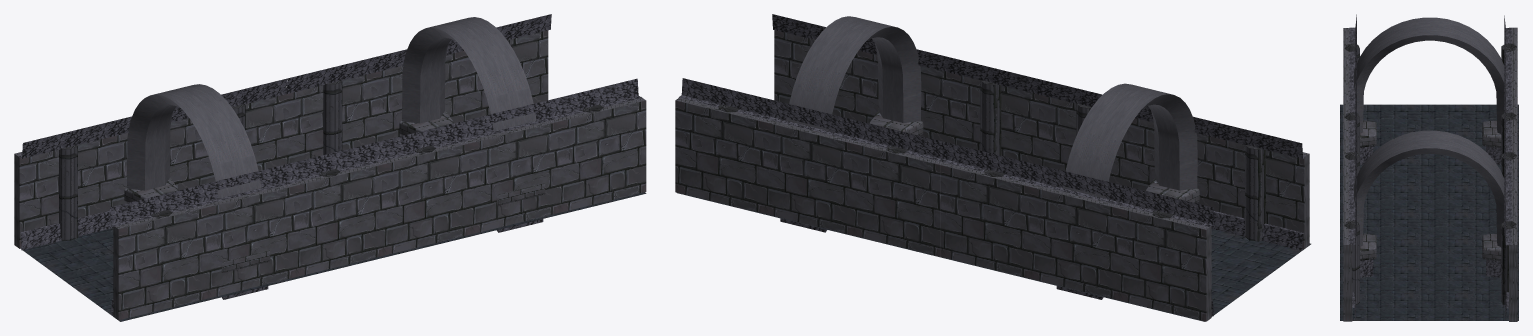
Rendered from room_003.FBX.
The picture shows the model from 3 angles, left to right: view 1: azimuth 30°, elevation 25°; view 2: azimuth 150°, elevation 25°; view 3: azimuth 270°, elevation 25°; orthographic projection. The views are drawn at different scales.
Visible parts, largest first — view 1: Box51, Box55, Box01, Box48, Arc02, Arc01, Box56, Box52, Plane01, Box20, Box49, Cylinder01 (+7 smaller); view 2: Box01, Box48, Box51, Box55, Arc01, Arc02, Box20, Box49, Plane01, Box52, Box56, Cylinder42 (+4 smaller); view 3: Plane02, Plane01, Arc01, Arc02, Box55, Box48, Box49, Box20, Box52, Box56, Box01, Box51 (+15 smaller).
Part boxes in pixels (x1,y1,x2,y2): Box51: (113, 162, 382, 320); Box55: (379, 97, 646, 255); Box01: (14, 95, 283, 248); Box48: (284, 30, 548, 164); Arc02: (402, 17, 536, 131); Arc01: (127, 84, 261, 198); Box56: (373, 78, 641, 161); Box52: (110, 143, 378, 226); Plane01: (20, 228, 382, 321); Box20: (19, 78, 287, 158); Box49: (286, 14, 551, 93); Cylinder01: (59, 144, 77, 240); Box01: (941, 162, 1211, 321); Box48: (675, 98, 944, 256); Box51: (1039, 94, 1309, 248); Box55: (774, 30, 1038, 164); Arc01: (1063, 83, 1197, 198); Arc02: (786, 16, 921, 131); Box20: (944, 143, 1213, 227); Box49: (678, 78, 947, 162); Plane01: (941, 229, 1310, 321); Box52: (1036, 78, 1306, 158); Box56: (772, 14, 1037, 94); Cylinder42: (1245, 144, 1265, 241); Plane02: (1340, 213, 1518, 320); Plane01: (1340, 104, 1518, 212); Arc01: (1354, 17, 1505, 133); Arc02: (1354, 130, 1505, 246); Box55: (1343, 136, 1352, 321); Box48: (1509, 136, 1517, 321); Box49: (1504, 124, 1511, 245); Box20: (1504, 15, 1511, 136); Box52: (1349, 14, 1356, 136); Box56: (1349, 123, 1356, 244); Box01: (1509, 27, 1517, 136); Box51: (1343, 28, 1349, 136).
Size of the model in its own units: 2208 by 641 by 767.
7 materials, 7 textured.
